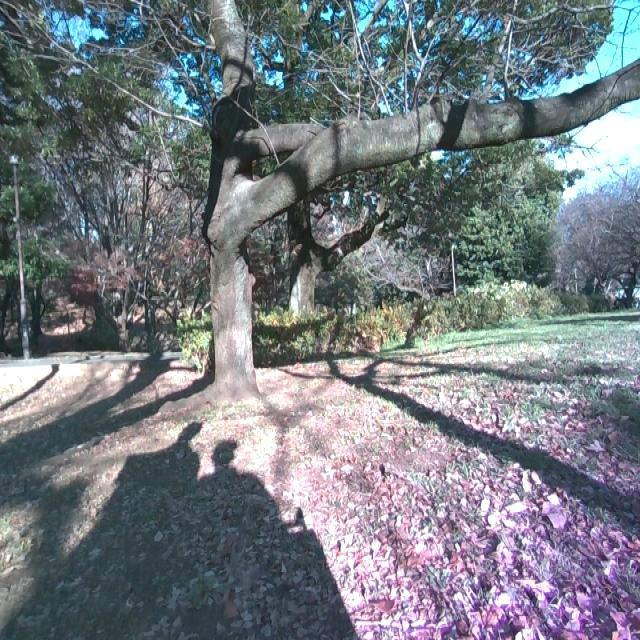artifact: (12, 145, 42, 373)
bush: (257, 274, 570, 364)
tree: (166, 0, 640, 404), (291, 187, 379, 305), (602, 189, 640, 311)
